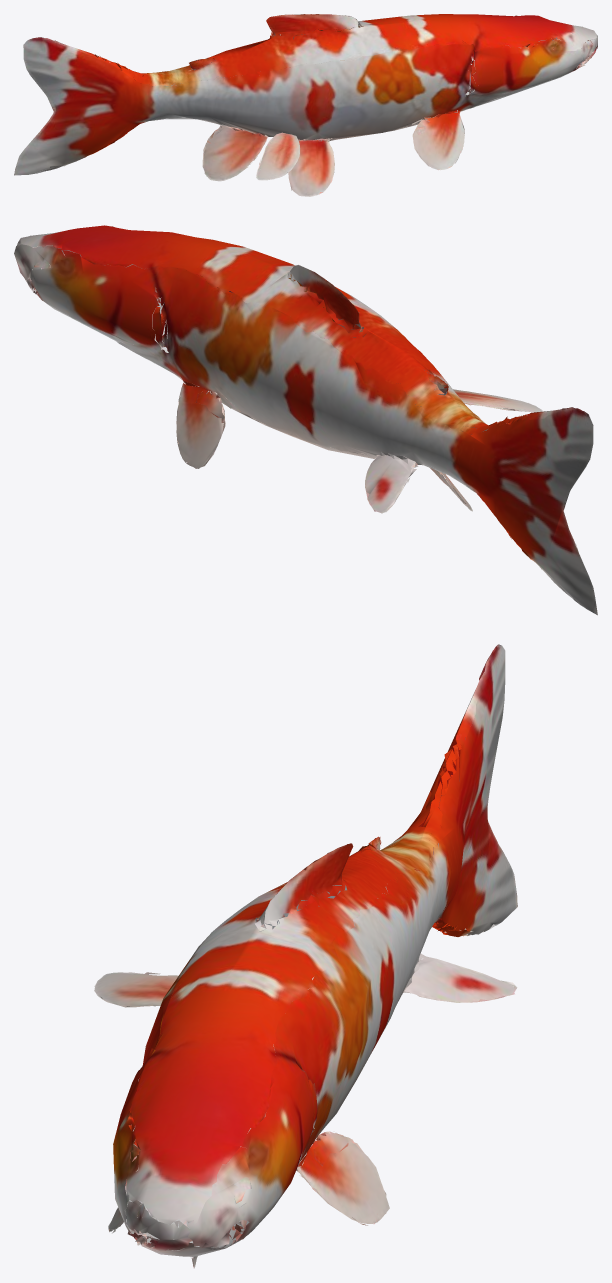
File: koi.glb
The picture shows the model from 3 angles, top to bottom: view 1: azimuth 30°, elevation 25°; view 2: azimuth 150°, elevation 25°; view 3: azimuth 270°, elevation 25°; orthographic projection. The views are drawn at different scales.
Visible parts, largest first — view 1: KoiFish; view 2: KoiFish; view 3: KoiFish.
Part boxes in pixels (x1,y1,x2,y2): KoiFish: [14, 14, 597, 196]; KoiFish: [14, 225, 597, 615]; KoiFish: [94, 644, 517, 1268].
Size of the model in its own units: 1.89 by 0.5093 by 0.6985.
1 material, 1 textured.
